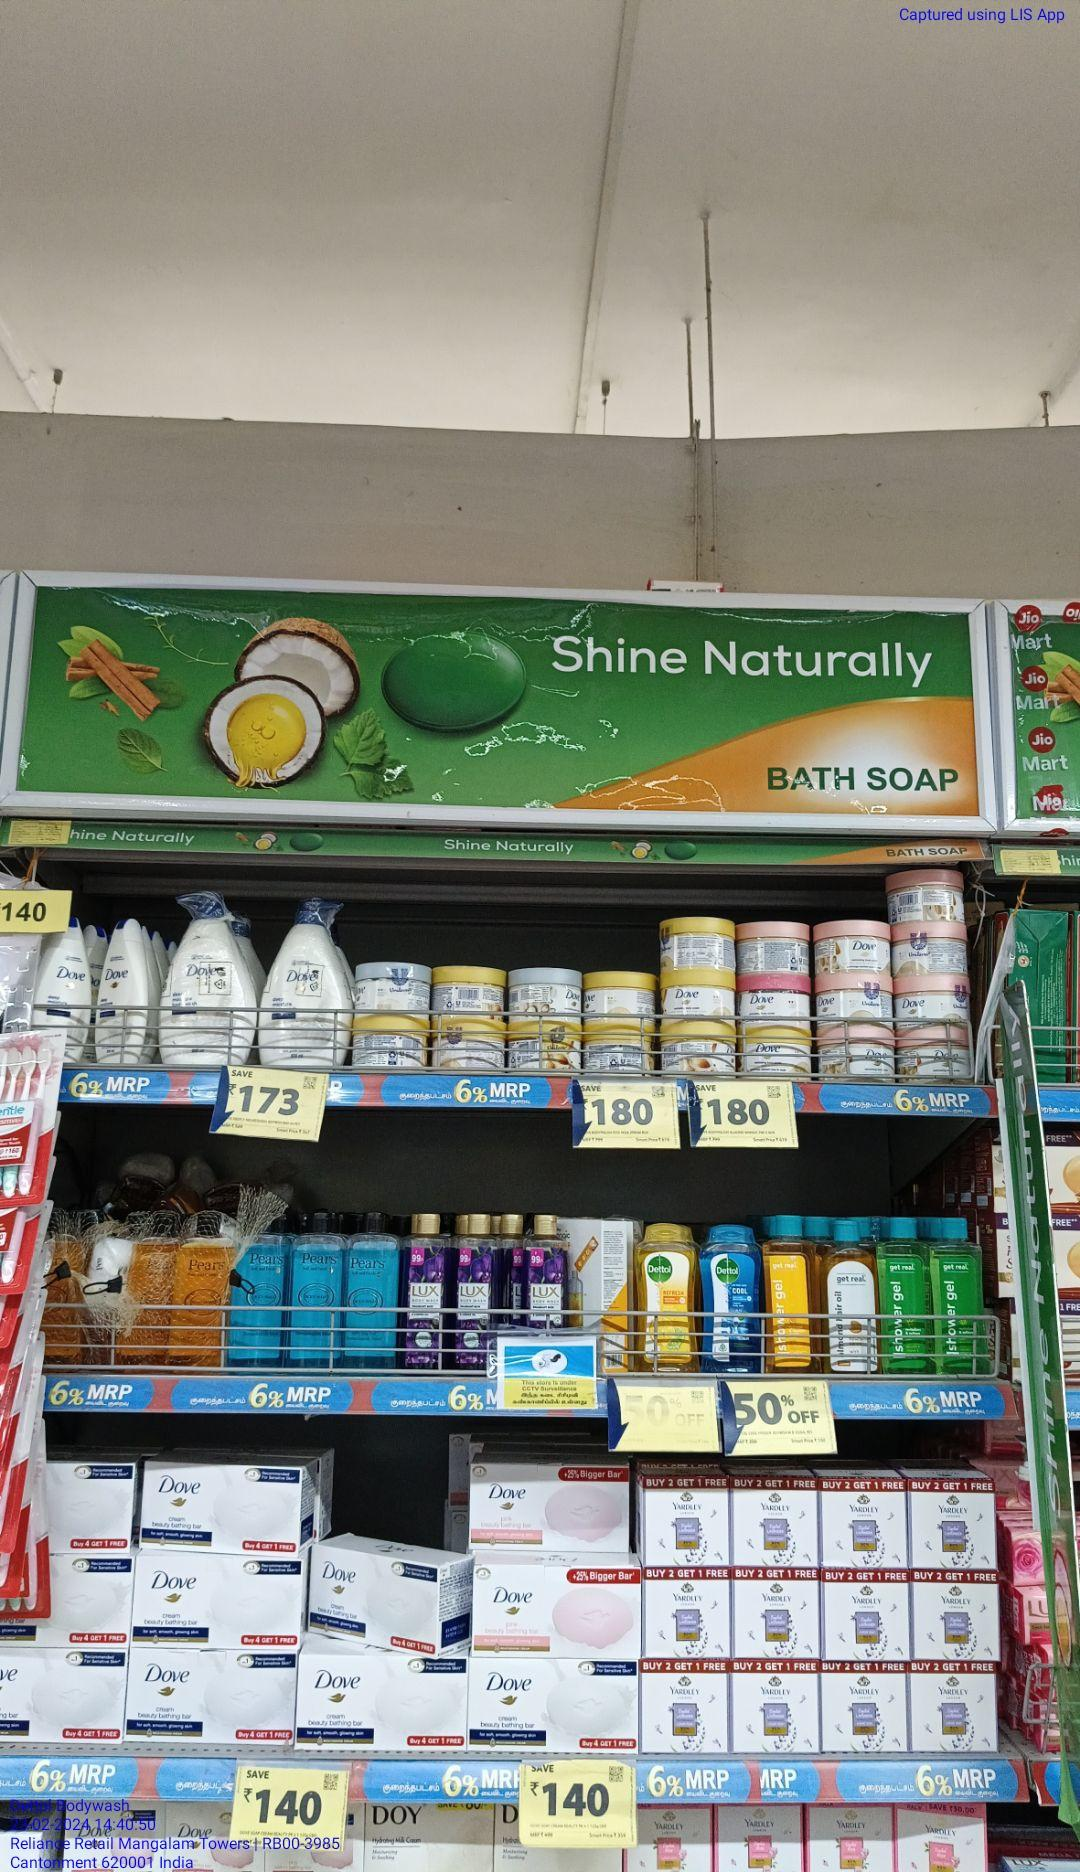Dettol_Bodywash_Cool: (703, 1220, 762, 1377)
Dettol_Bodywash_Refresh: (634, 1220, 701, 1372)
Lux_Black_Orchid_Scent_and_Juniper_Oil_Body_Wash_245ML: (450, 1210, 500, 1371), (402, 1212, 449, 1369), (521, 1214, 571, 1329)
Pears_Pure_Glycerin_and_Mint_Extracts_Body_Wash_250ML: (346, 1212, 400, 1374), (289, 1212, 345, 1369), (234, 1211, 284, 1363)
